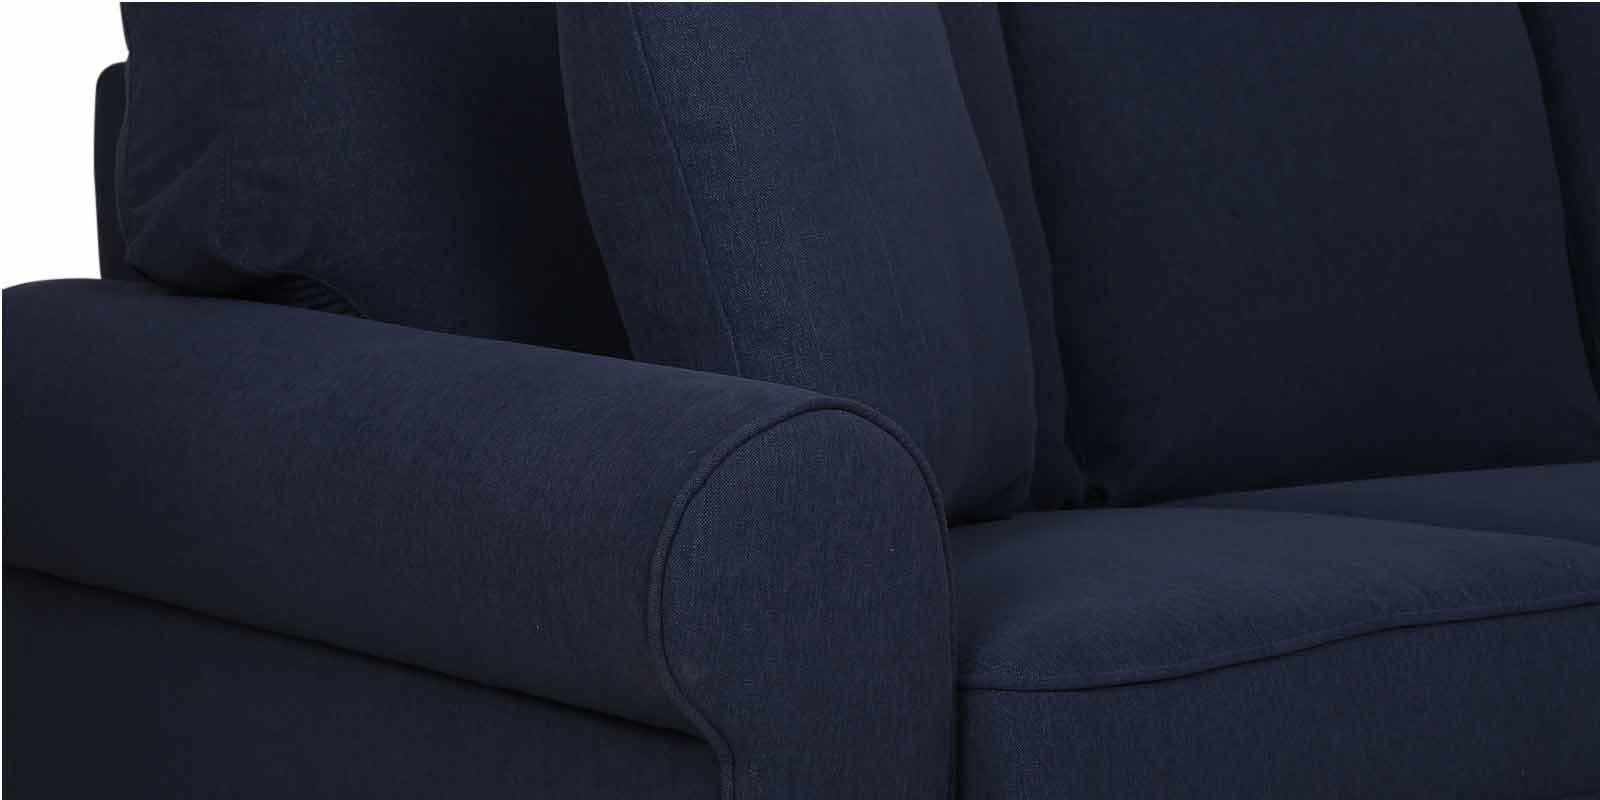Madeira Three Seater Sofa in Navy Blue Colour by CasaCraft: (1, 1, 1595, 800)
